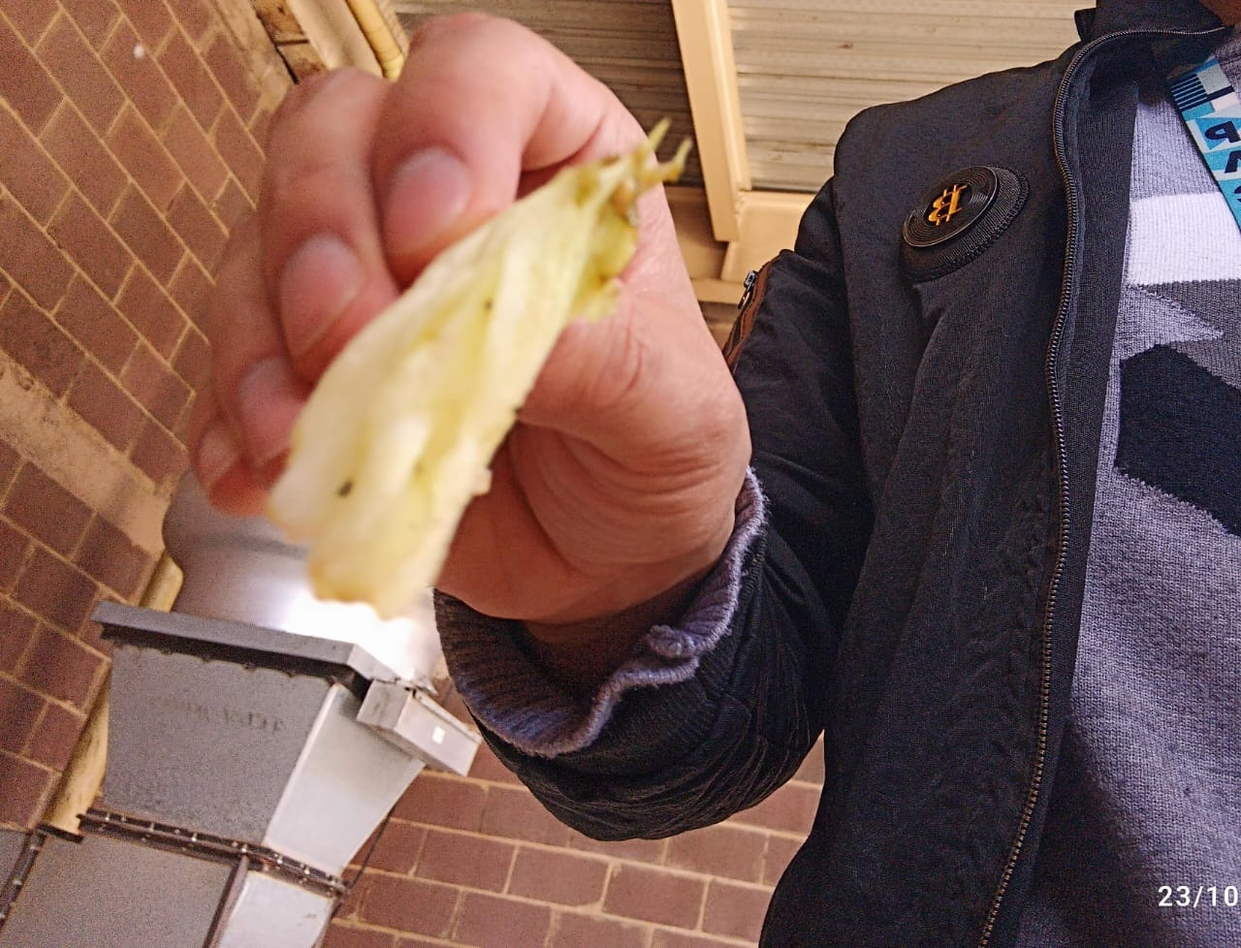Organico: (268, 114, 676, 620)
